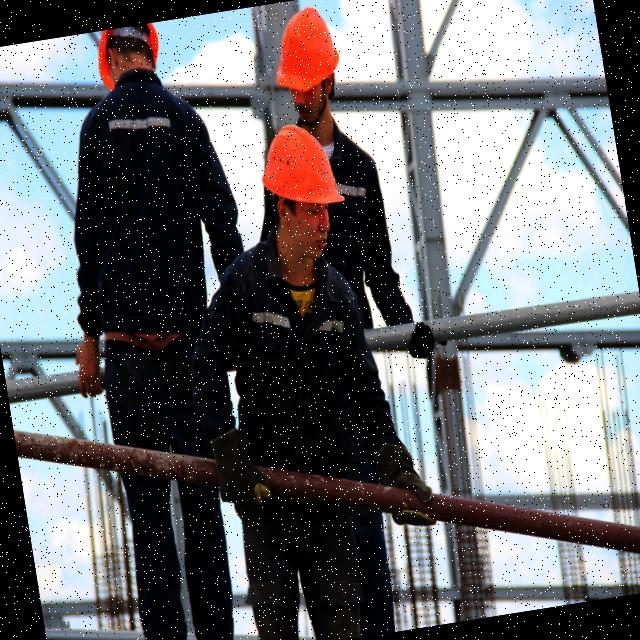Helmet: (257, 119, 348, 224), (265, 4, 347, 100), (96, 24, 165, 88)
NoJacket: (62, 78, 217, 361), (218, 238, 370, 469)
